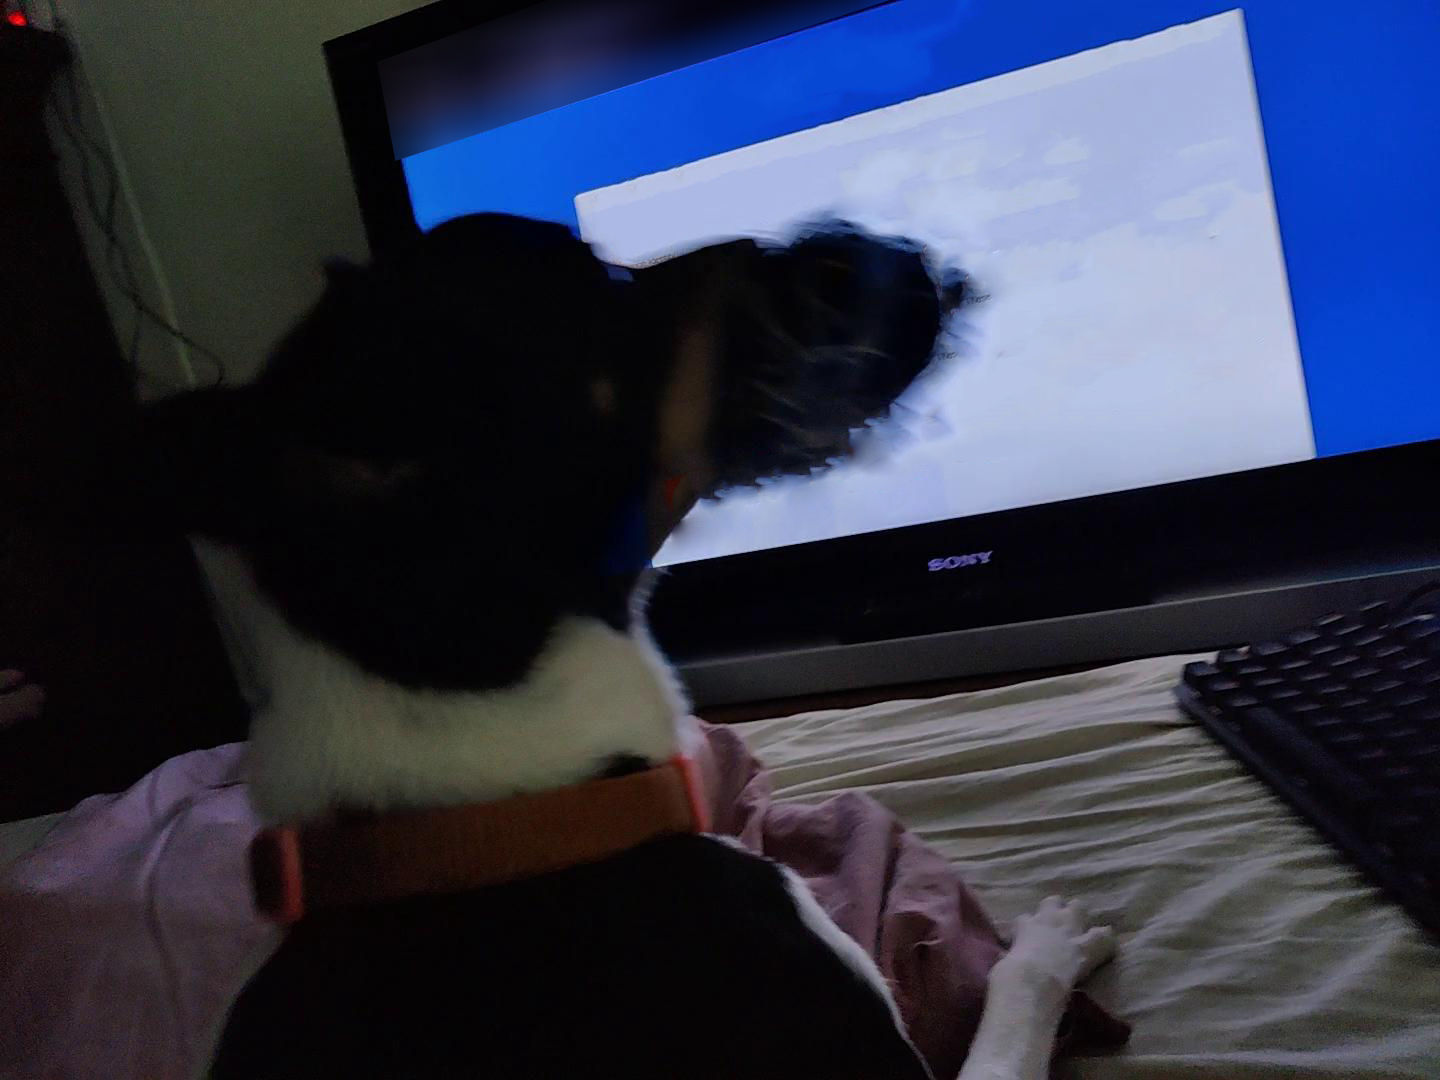Dog: (56, 201, 1133, 1079)
